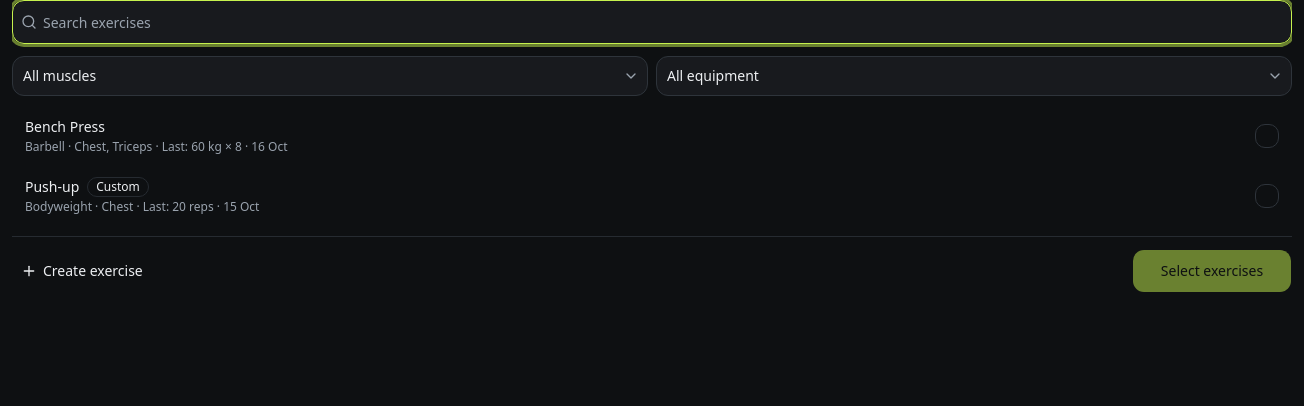
Test case: ExercisePicker › filters by muscle and offers to clear filters that match nothing
Expected: the text "Bench Press" is shown, [25,117,105,137]
Click the dropdown named "Filter by muscle": (60, 76) [12,56,648,96]
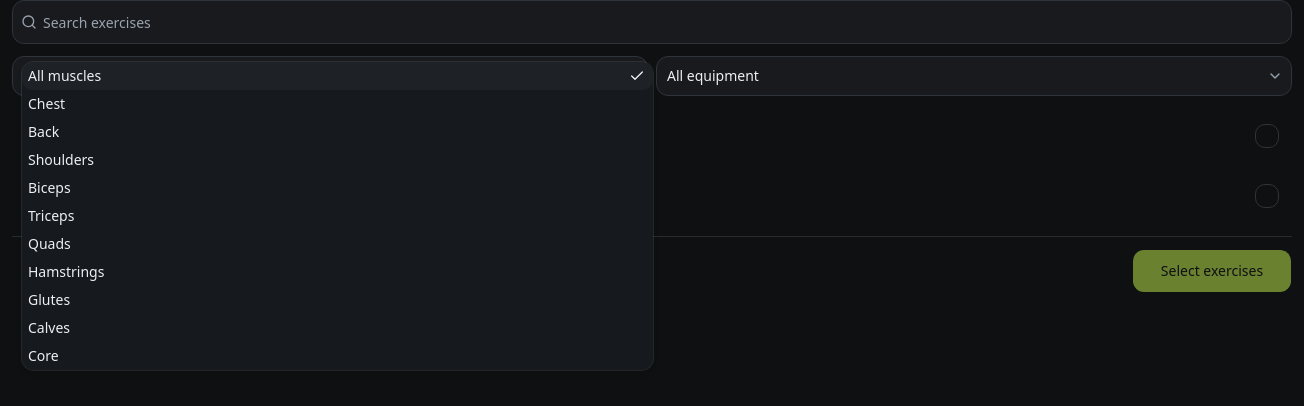
Click the option "Back": (44, 132) [28,122,59,141]
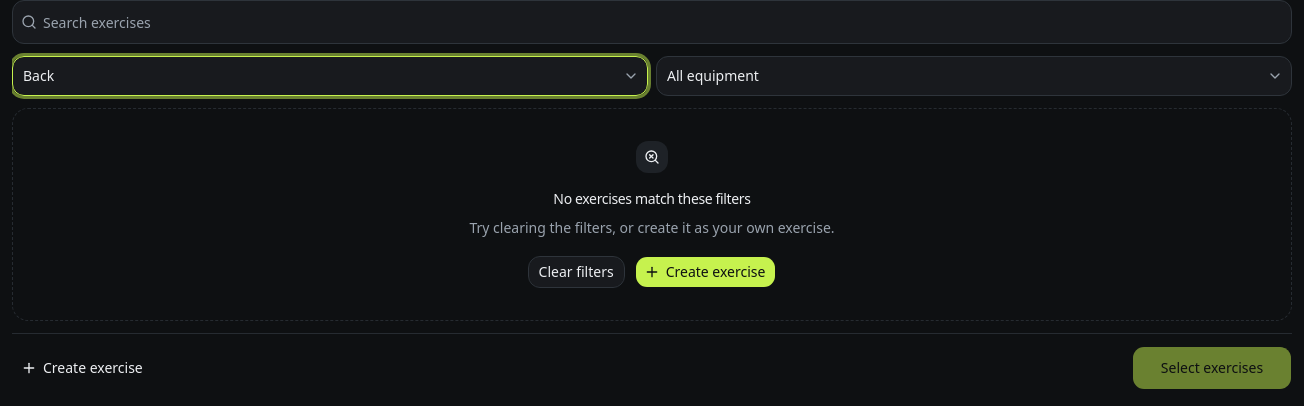
Expected: the text "No exercises match these filters" is shown, [553,189,751,209]
Click the button "Clear filters": (576, 272) [528,256,625,288]
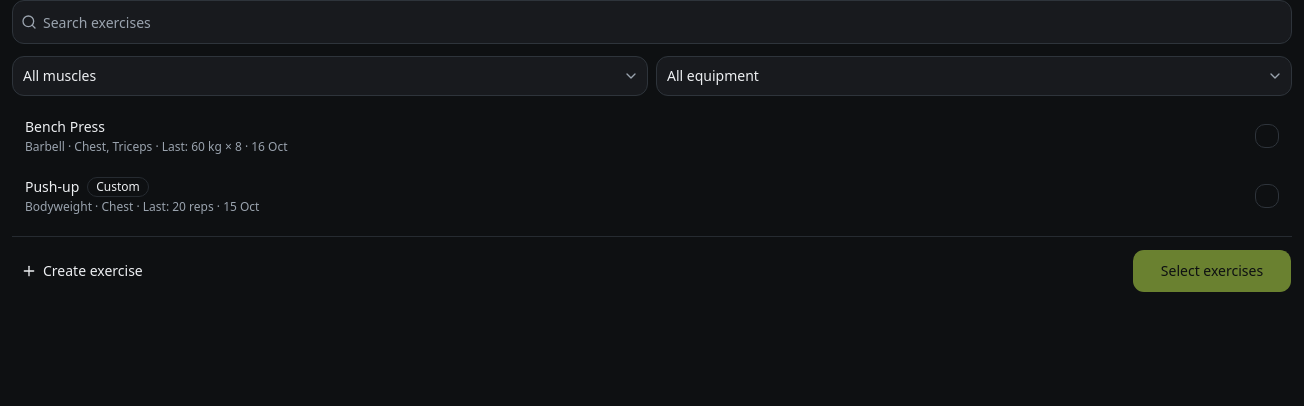
Expected: the text "Bench Press" is shown, [25,117,105,137]
